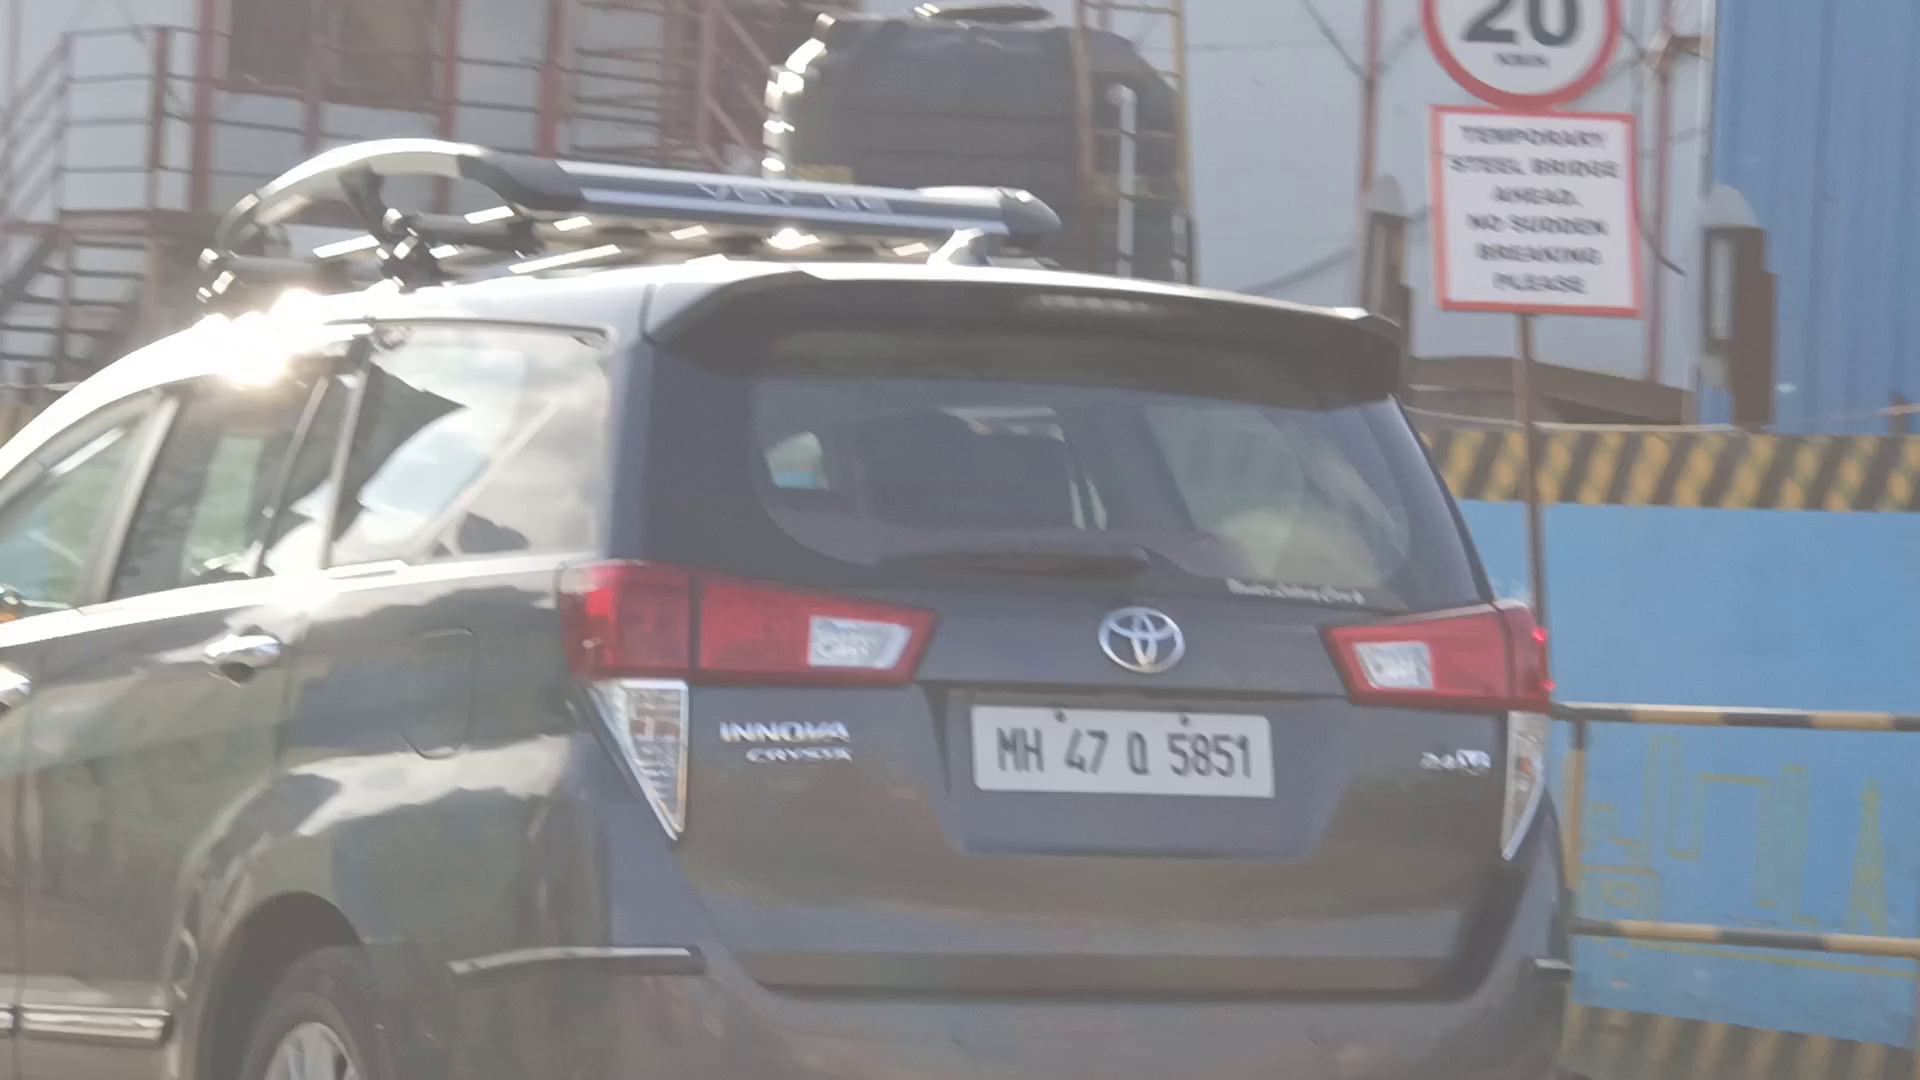MH4705851: (964, 700, 1277, 805)
